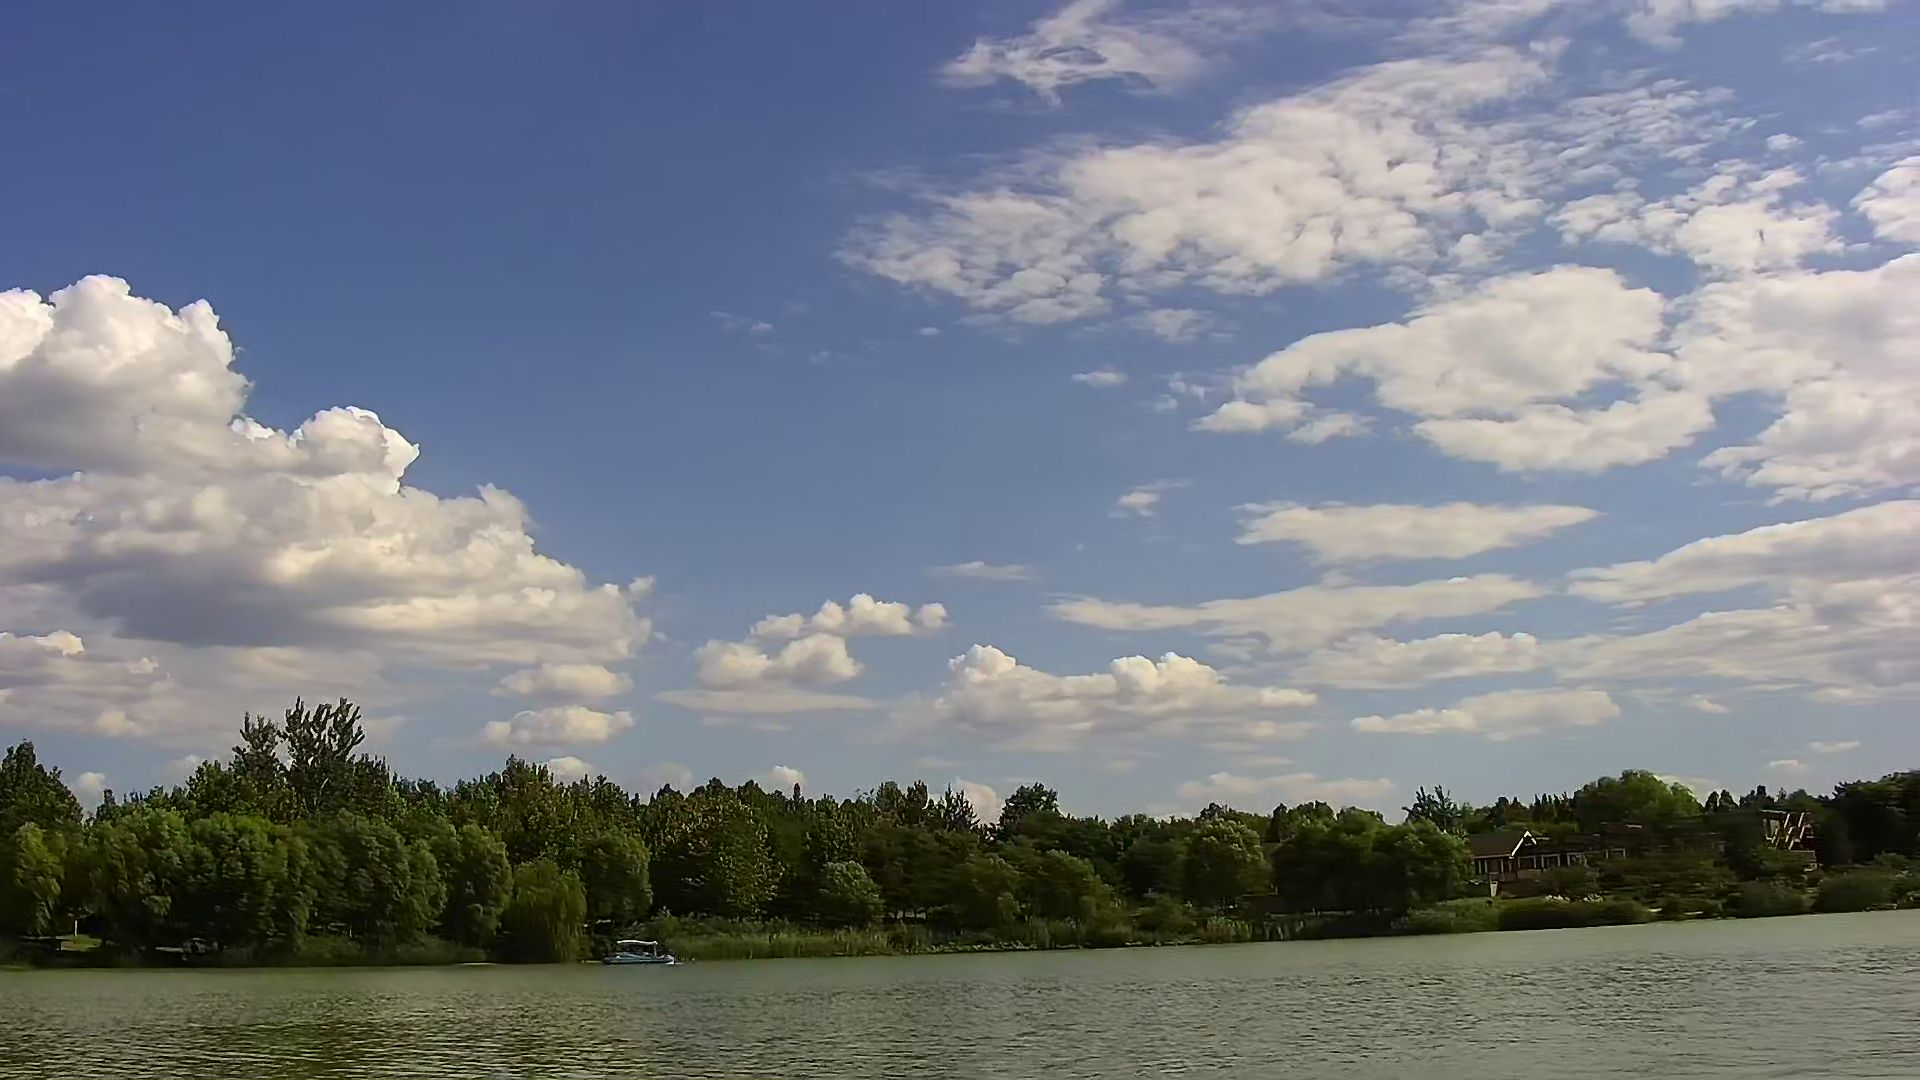boat: (593, 936, 686, 971)
